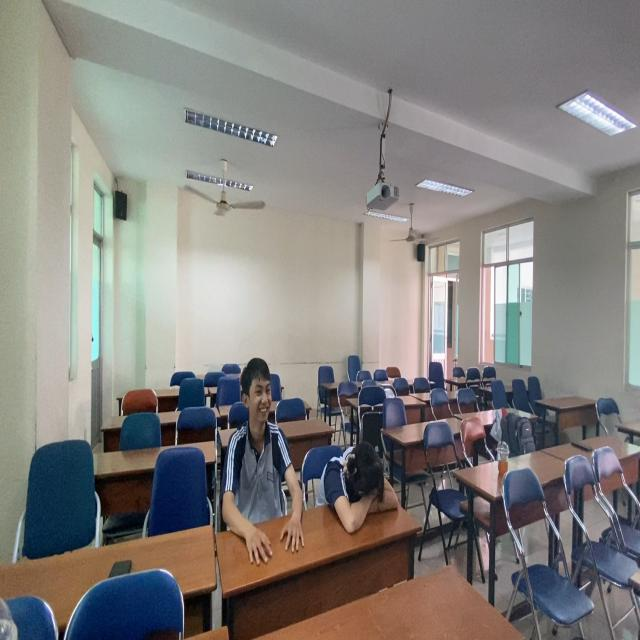sleep: (320, 438, 404, 535)
